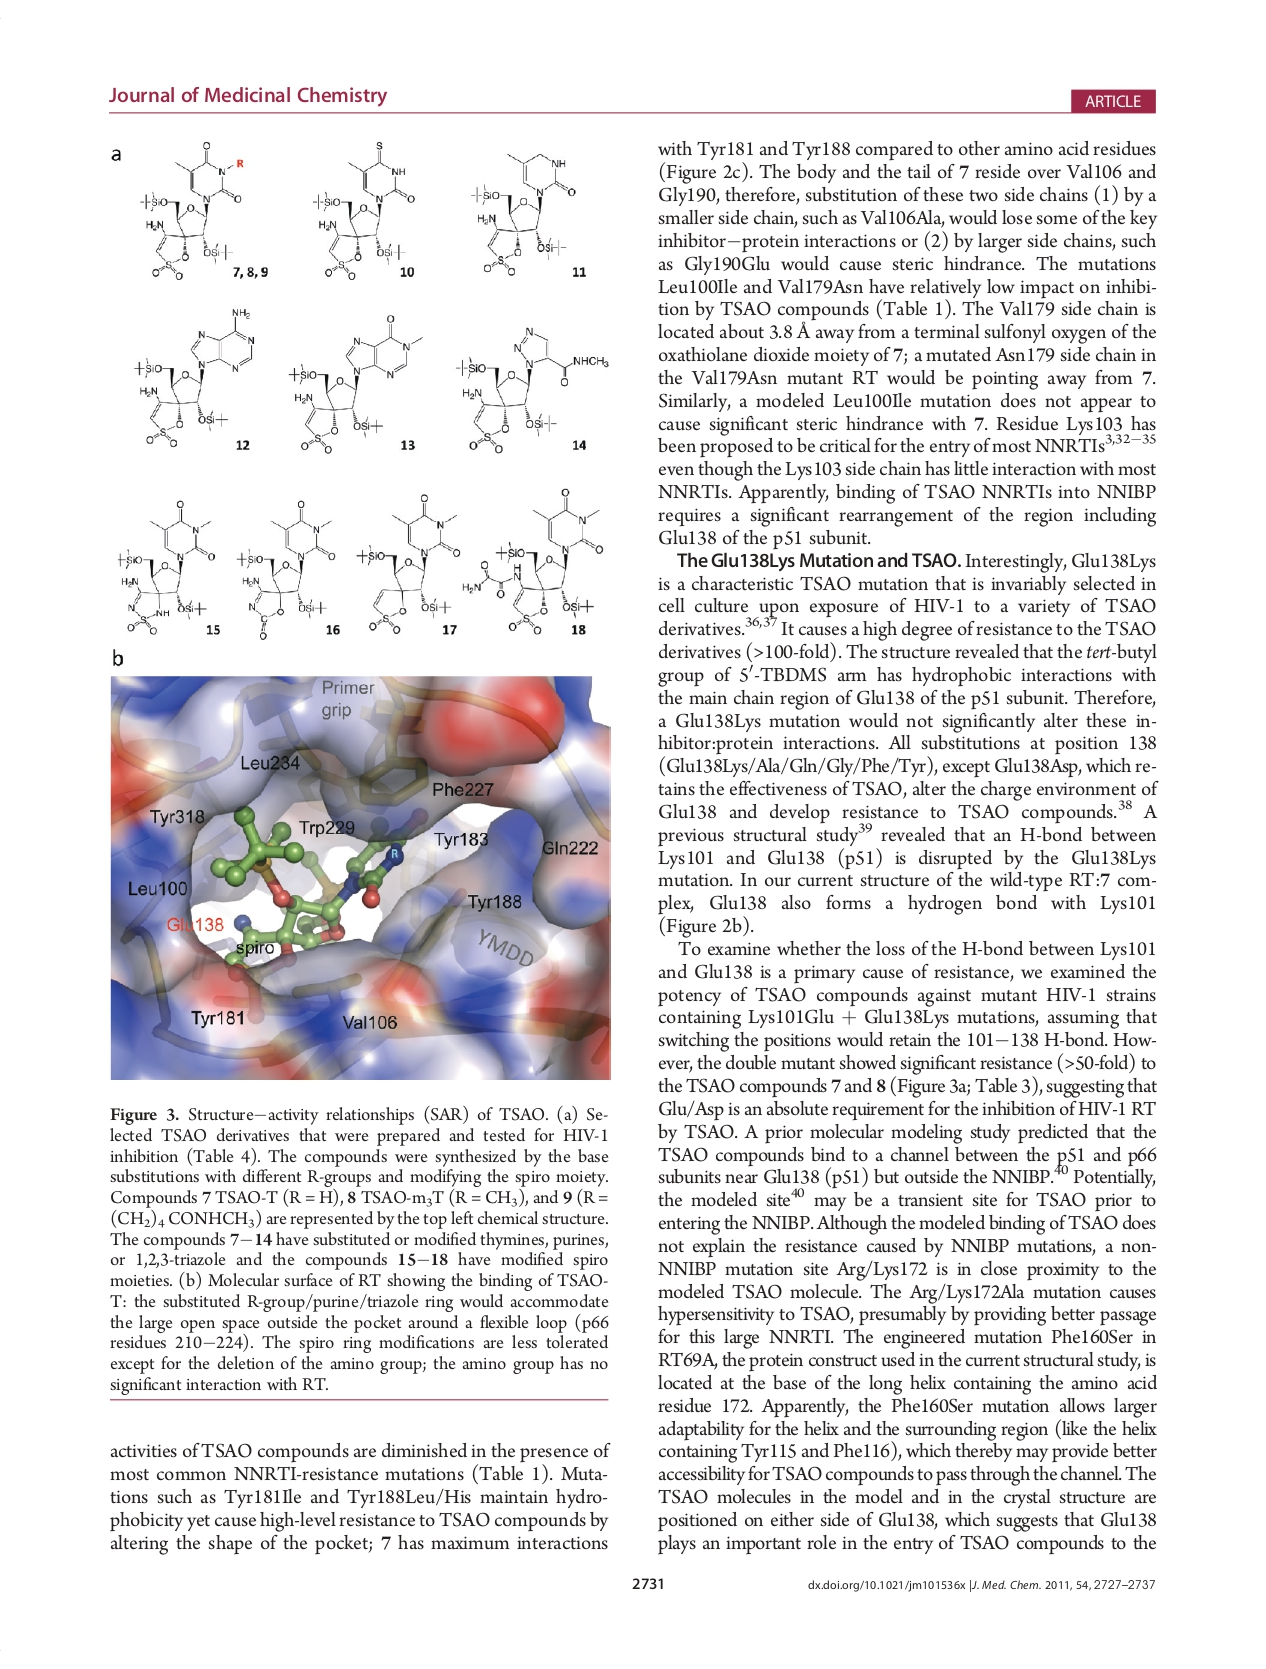exist_molecular: (461, 487, 606, 637), (453, 322, 610, 456), (285, 313, 426, 457), (130, 305, 258, 447), (136, 138, 249, 282), (352, 491, 461, 637), (233, 497, 339, 644), (309, 140, 418, 282), (465, 146, 578, 281), (114, 497, 217, 634)
